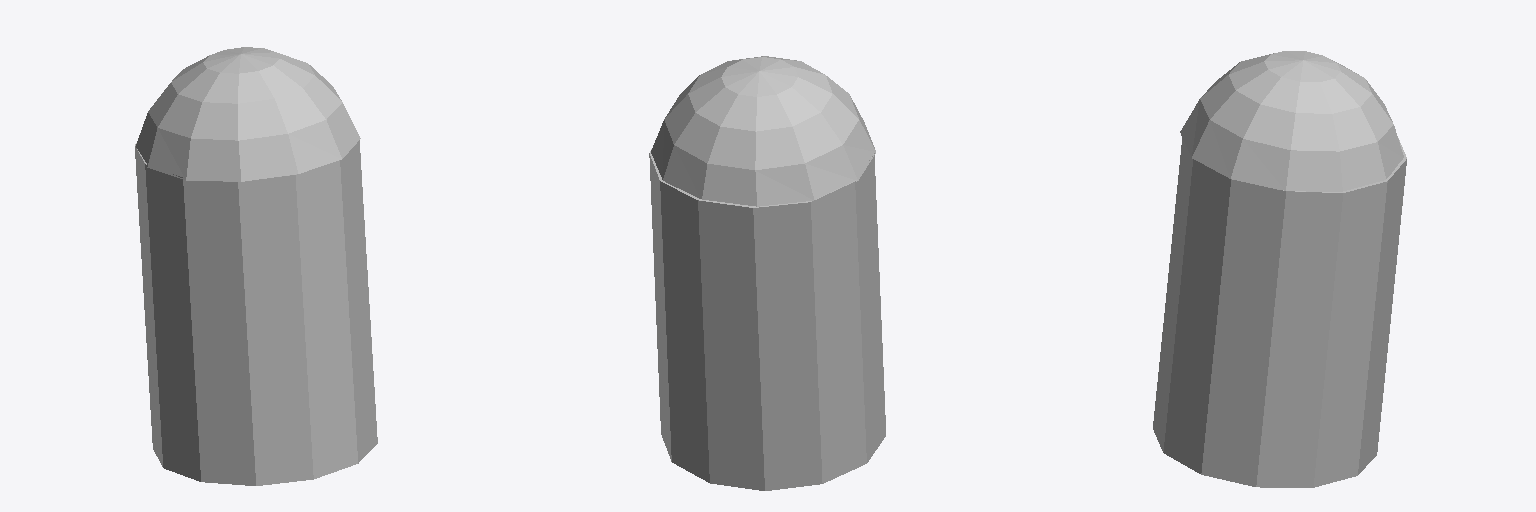
File: rose.obj
3 renders of one model, left to right at view 1: azimuth 30°, elevation 25°; view 2: azimuth 150°, elevation 25°; view 3: azimuth 270°, elevation 25°, orthographic.
Visible parts, largest first — view 1: group[number redacted], group[number redacted]; view 2: group[number redacted], group[number redacted]; view 3: group[number redacted], group[number redacted].
Boxes of the visible parts, box(x1,y1,x2,y2) form: group[number redacted]: box(135, 140, 377, 485); group[number redacted]: box(136, 47, 360, 181); group[number redacted]: box(649, 149, 885, 490); group[number redacted]: box(651, 56, 875, 206); group[number redacted]: box(1153, 138, 1406, 487); group[number redacted]: box(1180, 51, 1403, 191).
Bounding box in the file's own units: 0.7726 × 1.44 × 0.8566.